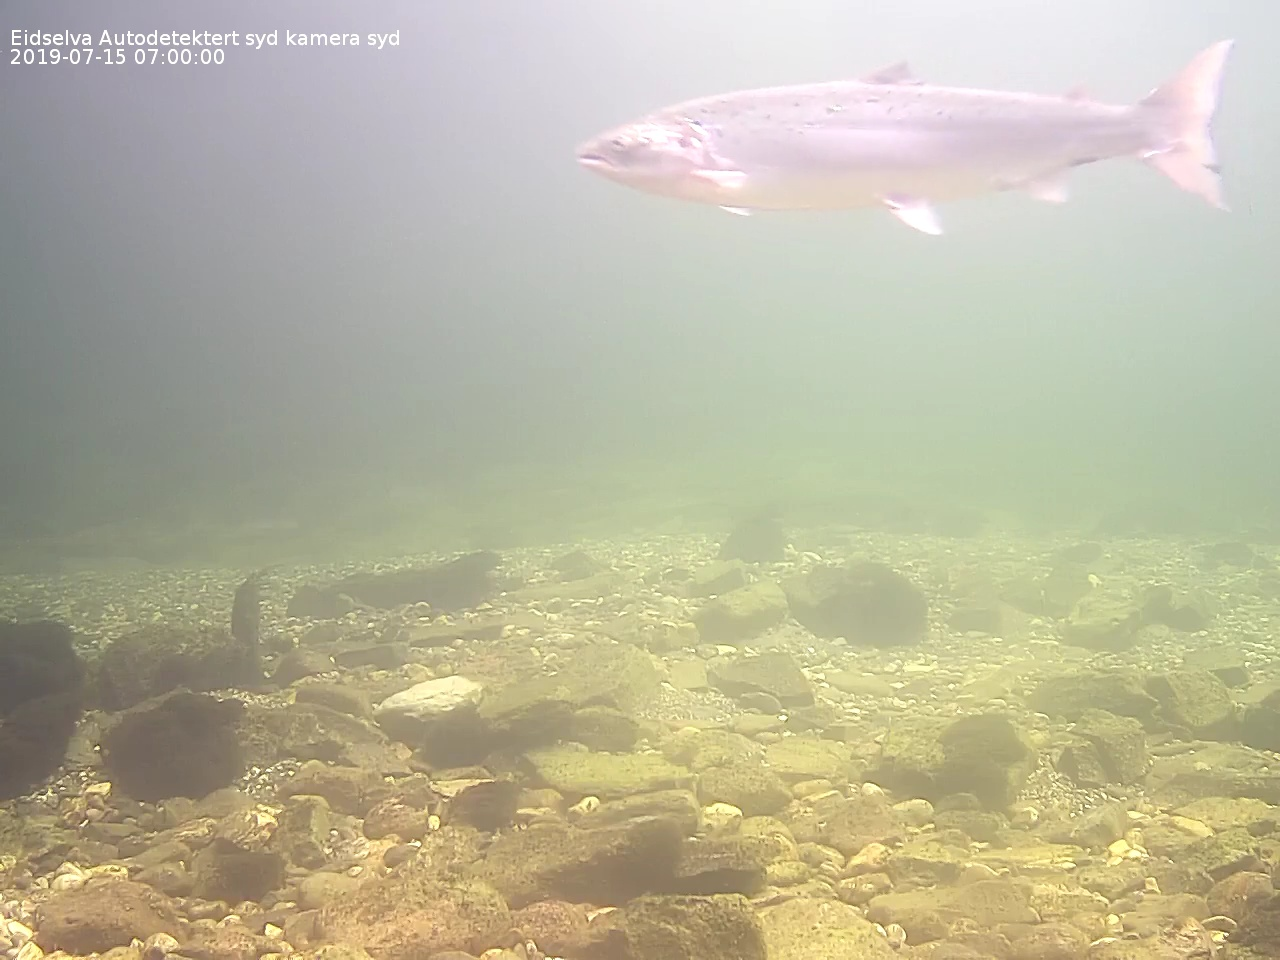salmon: (569, 31, 1241, 243)
